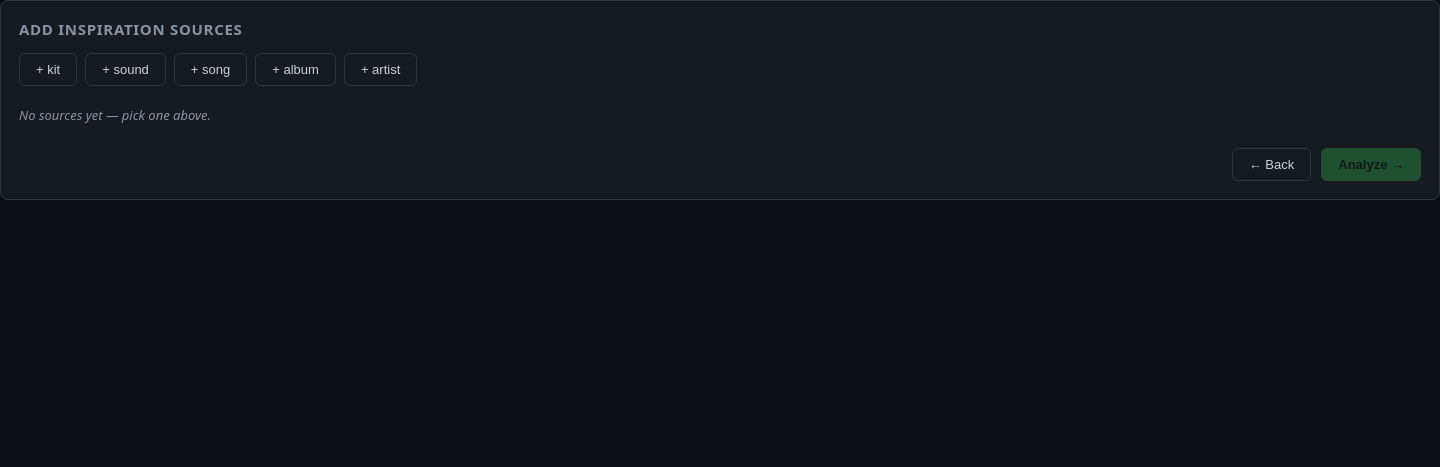
Test case: AddStep — picker UI › opens a draft with file mode when "+ kit" is clicked and shows the Browse button
This screenshot has width=1440, height=467.
Click the button with test id "wizard-add-kit" at coordinates (48, 70), box top-left (19, 53), bottom-right (77, 86)
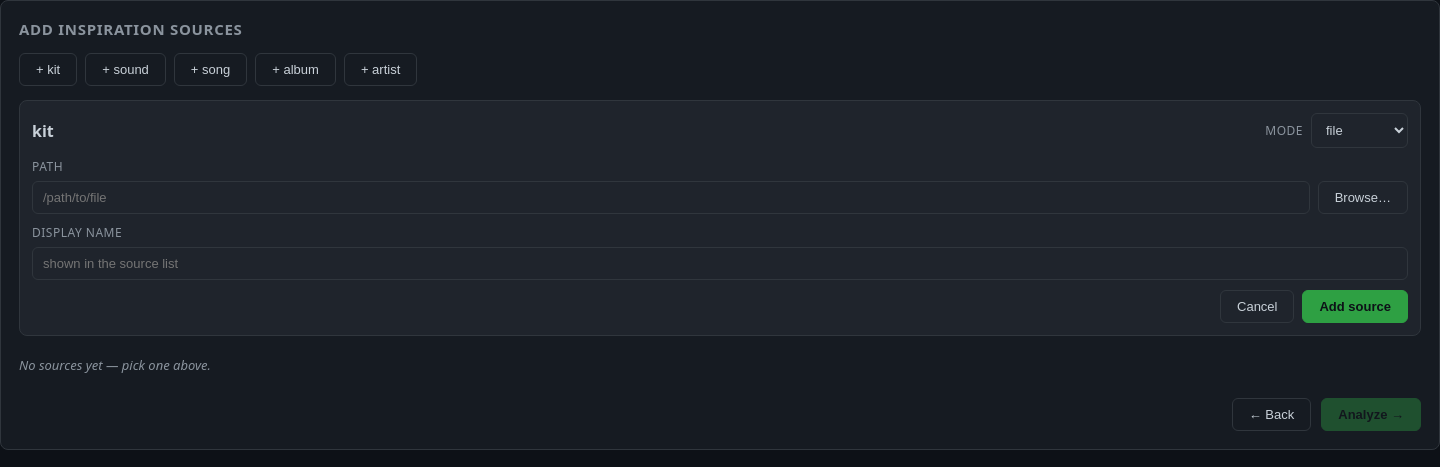
Expected: the dropdown with test id "wizard-draft-mode" shows "file", top-left (1311, 113), bottom-right (1408, 148)
Expected: the button with test id "wizard-draft-browse" is shown, top-left (1318, 181), bottom-right (1408, 214)
